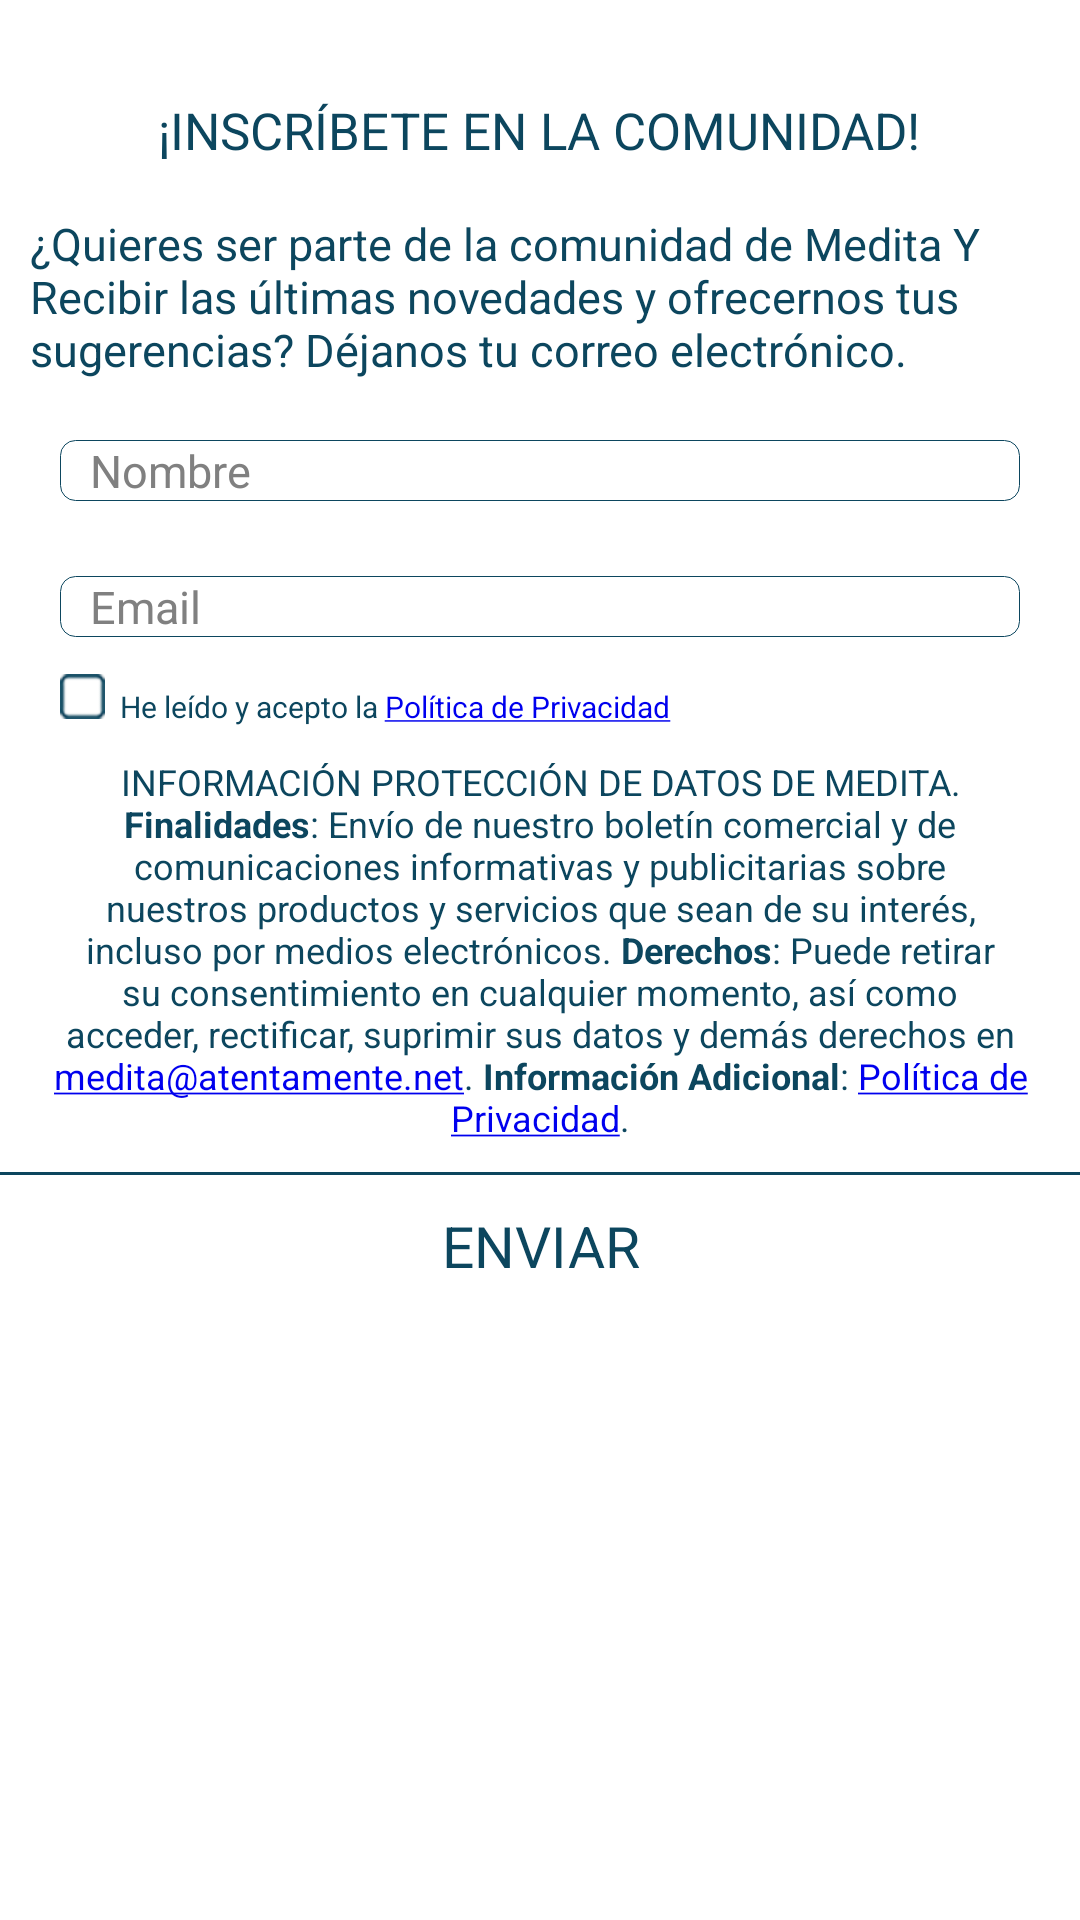

Screen size 1080 × 1920. Icon name, then its box in pixels as (x1, y1, x2, y2):
custom checkbox: (60, 674, 105, 719)
